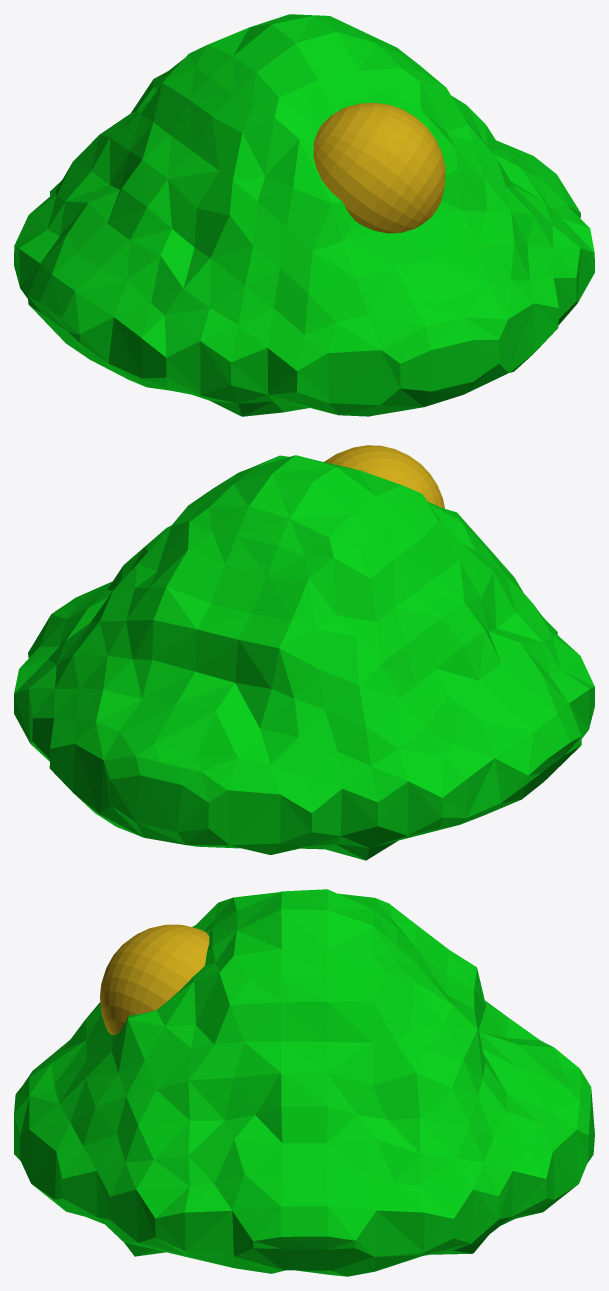
File: Player.obj
The picture shows the model from 3 angles, top to bottom: view 1: azimuth 30°, elevation 25°; view 2: azimuth 150°, elevation 25°; view 3: azimuth 270°, elevation 25°; orthographic projection. The views are drawn at different scales.
Visible parts, largest first — view 1: 球; view 2: 球; view 3: 球.
Boxes of the visible parts, x1,y1,x2,y2 form: 球: (14, 14, 594, 416); 球: (14, 445, 594, 860); 球: (14, 889, 594, 1276).
Bounding box in the file's own units: 2.01 × 1.16 × 2.03.
